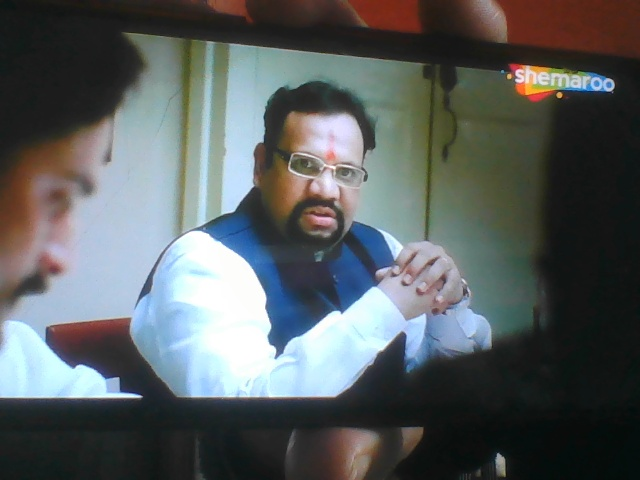fake: (240, 78, 368, 259)
